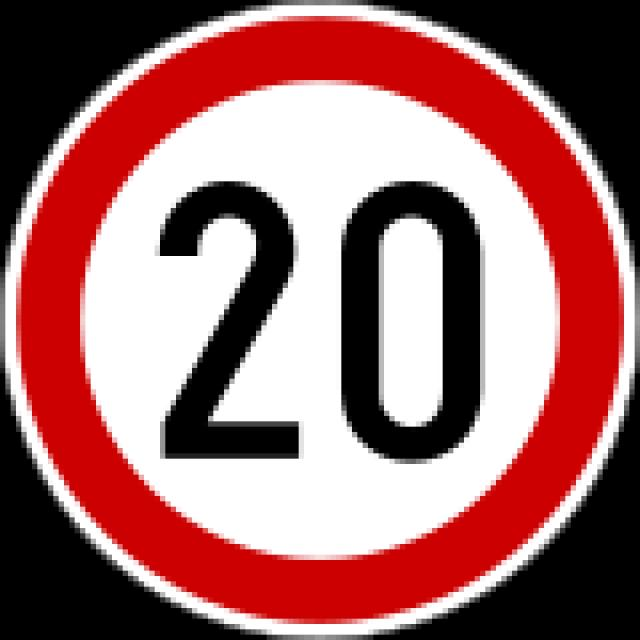Speed Limit -20-: (151, 175, 489, 470)
